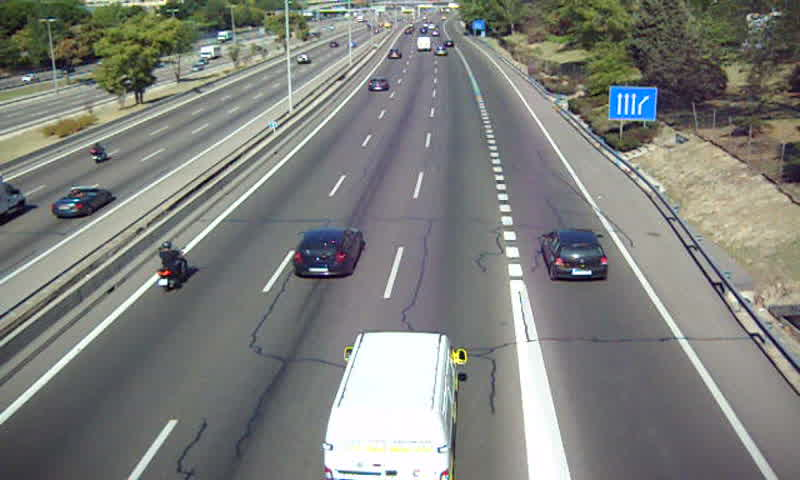car: (291, 226, 363, 277), (543, 231, 606, 281), (366, 76, 390, 94)
motorcycle: (154, 240, 190, 294)
van: (323, 332, 457, 480)
